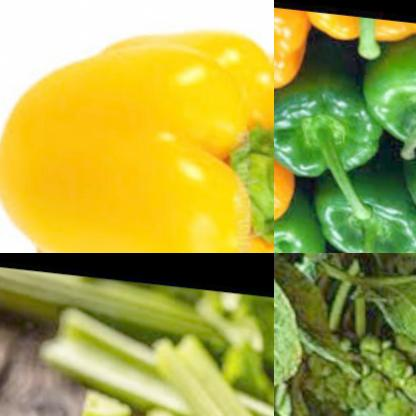bell pepper: (0, 0, 274, 253), (274, 38, 382, 184), (308, 152, 416, 253), (366, 9, 416, 155), (302, 4, 416, 68), (274, 181, 323, 253), (274, 0, 305, 97)
brus capusta: (331, 295, 416, 416), (274, 253, 416, 294)
celery: (0, 265, 274, 416), (36, 299, 274, 416), (160, 320, 274, 416), (39, 384, 205, 416)
